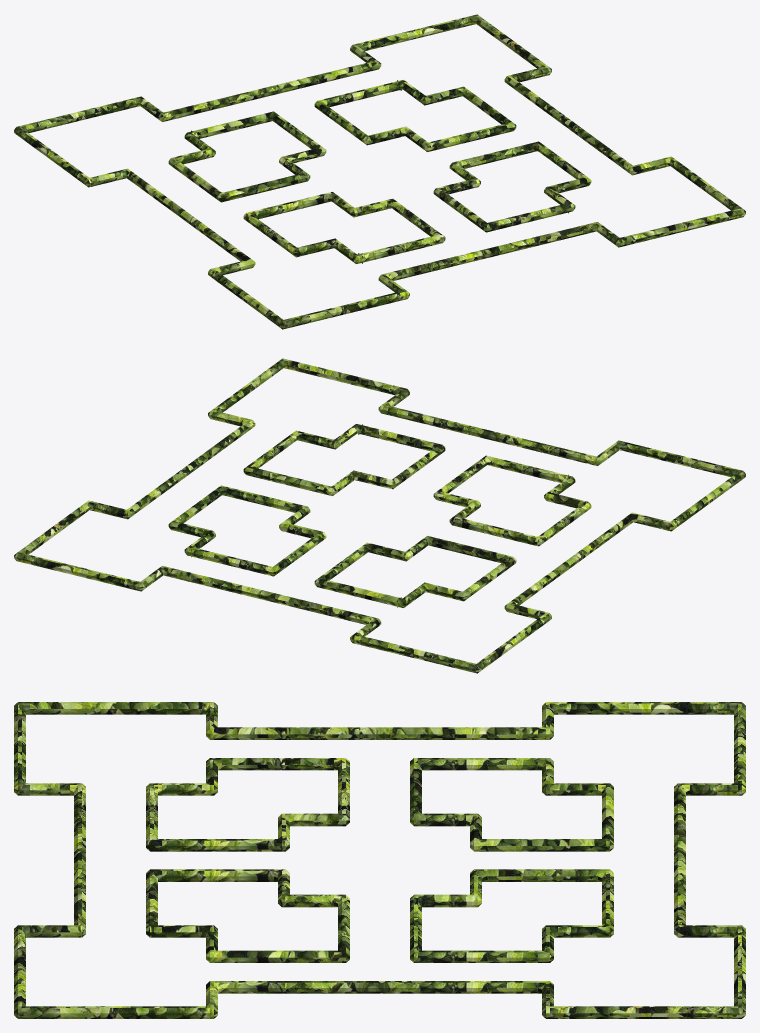
File: maze.obj
The picture shows the model from 3 angles, top to bottom: view 1: azimuth 30°, elevation 25°; view 2: azimuth 150°, elevation 25°; view 3: azimuth 270°, elevation 25°; orthographic projection. The views are drawn at different scales.
Visible parts, largest first — view 1: Cube_Cube.001; view 2: Cube_Cube.001; view 3: Cube_Cube.001.
Part boxes in pixels (x1,y1,x2,y2): Cube_Cube.001: [14, 14, 745, 329]; Cube_Cube.001: [14, 358, 745, 673]; Cube_Cube.001: [14, 702, 745, 1018].
Bounding box in the file's own units: 61 × 1 × 61.
